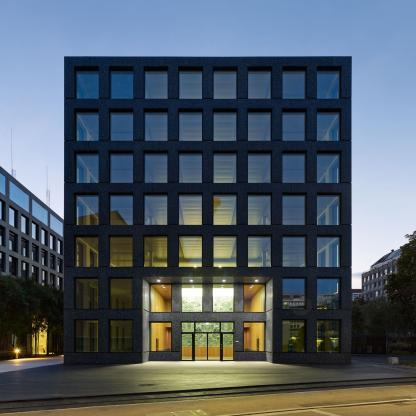Building Outline: (64, 57, 351, 363)
Door: (195, 333, 220, 361)
Door Hole: (143, 277, 272, 363)
Facade: (64, 57, 351, 363)
Floor: (64, 273, 351, 315), (64, 146, 351, 186), (64, 231, 351, 270), (64, 189, 351, 228), (64, 105, 351, 143)
Floor Slab: (64, 102, 351, 105), (64, 144, 351, 147), (64, 186, 351, 189), (64, 229, 351, 232), (64, 270, 351, 273), (64, 315, 351, 318)
Glass Wall: (223, 334, 234, 360), (182, 334, 192, 360)
Ground Floor: (64, 318, 351, 364)
Top Floor: (64, 57, 351, 101)
Window: (317, 320, 340, 352), (76, 236, 99, 267), (317, 236, 340, 267), (110, 236, 133, 267), (145, 236, 168, 267), (179, 236, 202, 267), (214, 236, 237, 267), (248, 236, 271, 267), (283, 236, 306, 267), (317, 278, 340, 309), (283, 320, 305, 352), (248, 112, 272, 141), (248, 154, 272, 183), (317, 195, 340, 225), (282, 195, 305, 225), (248, 195, 271, 225), (214, 195, 237, 225), (179, 195, 202, 225), (145, 195, 168, 225), (110, 195, 133, 225), (76, 195, 99, 225), (283, 278, 305, 309), (111, 321, 133, 352), (111, 278, 133, 309), (77, 320, 98, 352), (179, 112, 202, 141), (214, 112, 237, 141), (317, 112, 340, 141), (76, 154, 99, 183), (179, 154, 202, 183), (214, 154, 237, 183), (283, 154, 306, 183), (249, 71, 272, 99), (179, 71, 202, 99), (214, 71, 237, 99), (317, 71, 340, 99), (76, 113, 99, 141), (145, 112, 167, 141), (111, 112, 133, 141), (283, 112, 305, 141), (145, 154, 167, 183), (317, 154, 339, 183), (77, 279, 98, 309), (76, 71, 99, 98), (111, 71, 134, 98), (145, 71, 167, 99), (283, 71, 305, 99), (111, 154, 133, 182), (244, 323, 265, 351), (244, 285, 265, 312), (213, 285, 234, 312), (151, 323, 171, 351), (151, 285, 171, 312), (182, 285, 202, 312), (196, 323, 220, 332), (182, 323, 195, 332), (221, 323, 233, 332)
Window Hole: (282, 319, 307, 353), (317, 319, 342, 353), (144, 66, 169, 99), (178, 66, 203, 99), (213, 66, 238, 99), (317, 66, 342, 99), (74, 108, 99, 141), (144, 108, 169, 141), (178, 108, 203, 141), (213, 108, 238, 141), (317, 108, 342, 141), (74, 150, 99, 183), (144, 150, 169, 183), (178, 150, 203, 183), (213, 150, 238, 183), (317, 150, 342, 183), (282, 150, 307, 183), (317, 192, 342, 225), (74, 192, 99, 225), (109, 192, 134, 225), (144, 192, 169, 225), (178, 192, 203, 225), (213, 192, 238, 225), (247, 192, 272, 225), (282, 192, 307, 225), (73, 320, 98, 353), (109, 320, 134, 353), (109, 66, 134, 98), (74, 66, 99, 98), (317, 235, 342, 267), (74, 235, 99, 267), (108, 235, 133, 267), (143, 235, 168, 267), (178, 235, 203, 267), (213, 235, 238, 267), (282, 235, 307, 267), (282, 277, 307, 309), (317, 277, 342, 309), (73, 277, 98, 309), (109, 277, 134, 309), (248, 66, 272, 99), (283, 66, 307, 99), (109, 108, 133, 141), (248, 108, 272, 141), (283, 108, 307, 141), (248, 150, 272, 183), (109, 150, 133, 182), (248, 235, 272, 267), (149, 321, 172, 352), (244, 322, 266, 353), (244, 283, 266, 313), (150, 283, 172, 313), (181, 283, 203, 313), (212, 283, 234, 313)
